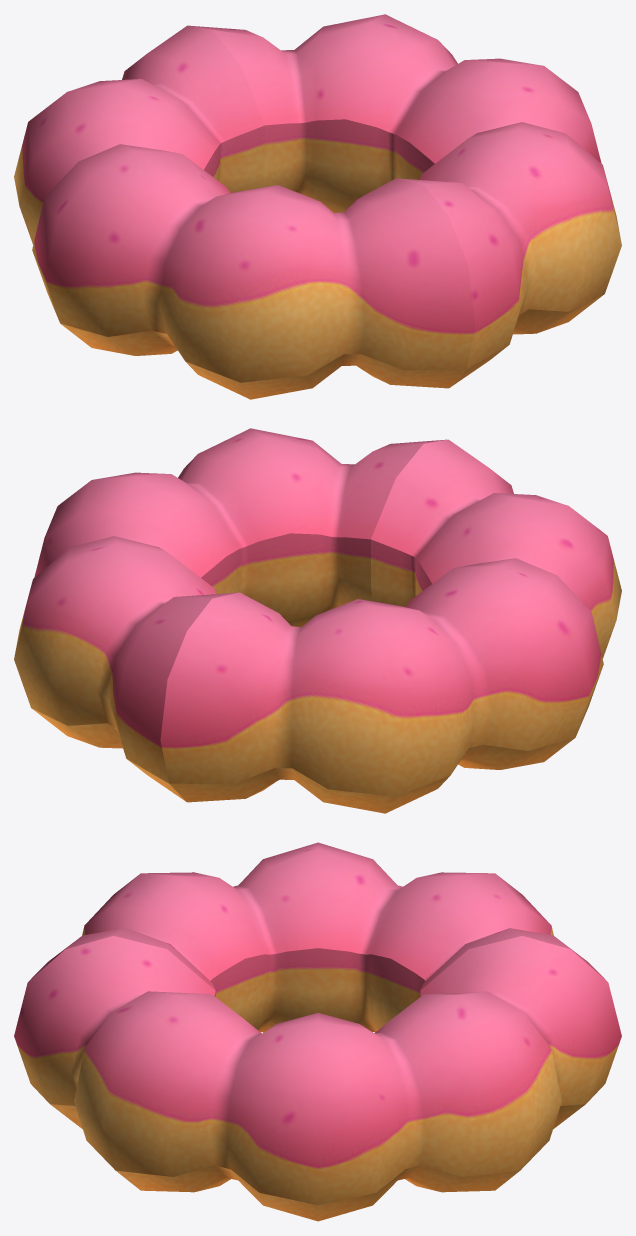
File: RingDonut_1.fbx
The picture shows the model from 3 angles, top to bottom: view 1: azimuth 30°, elevation 25°; view 2: azimuth 150°, elevation 25°; view 3: azimuth 270°, elevation 25°; orthographic projection. The views are drawn at different scales.
Parts seen in each view (by area): view 1: RingDonut_1; view 2: RingDonut_1; view 3: RingDonut_1.
Boxes of the visible parts, x1,y1,x2,y2 form: RingDonut_1: (14,14,621,399); RingDonut_1: (14,428,621,813); RingDonut_1: (14,842,621,1221).
Bounding box in the file's own units: 65.24 × 22.69 × 65.24.
1 material, 1 textured.
